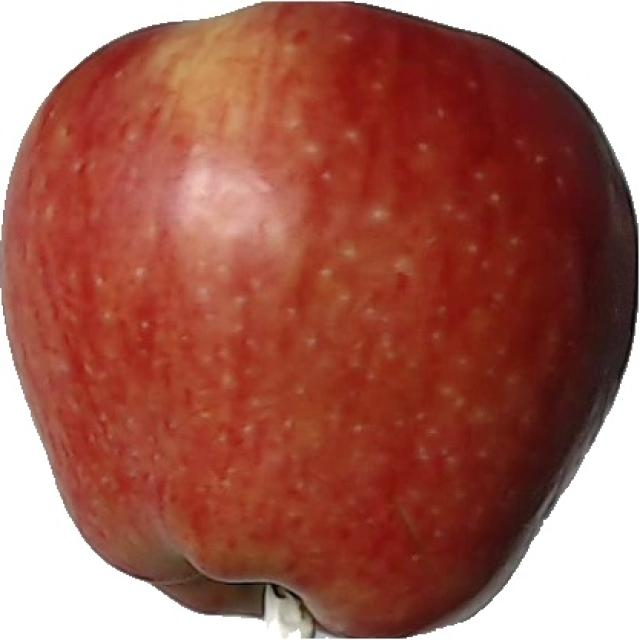apple: (3, 3, 637, 640)
